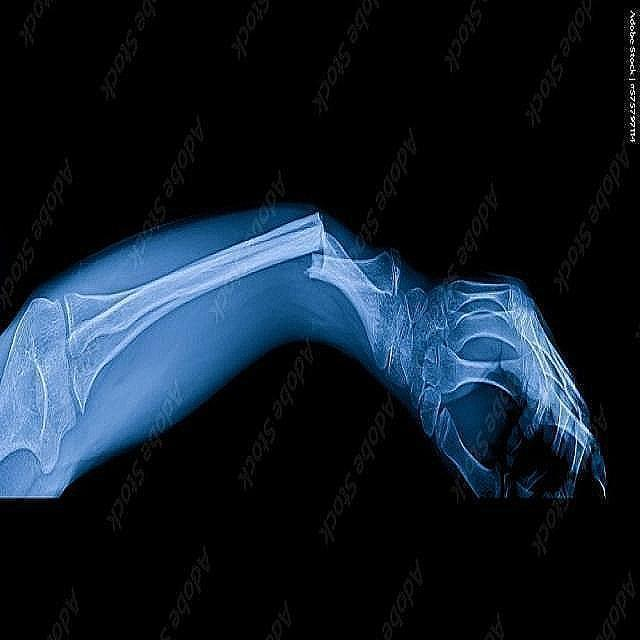bone: (290, 206, 330, 254), (298, 247, 325, 288)
